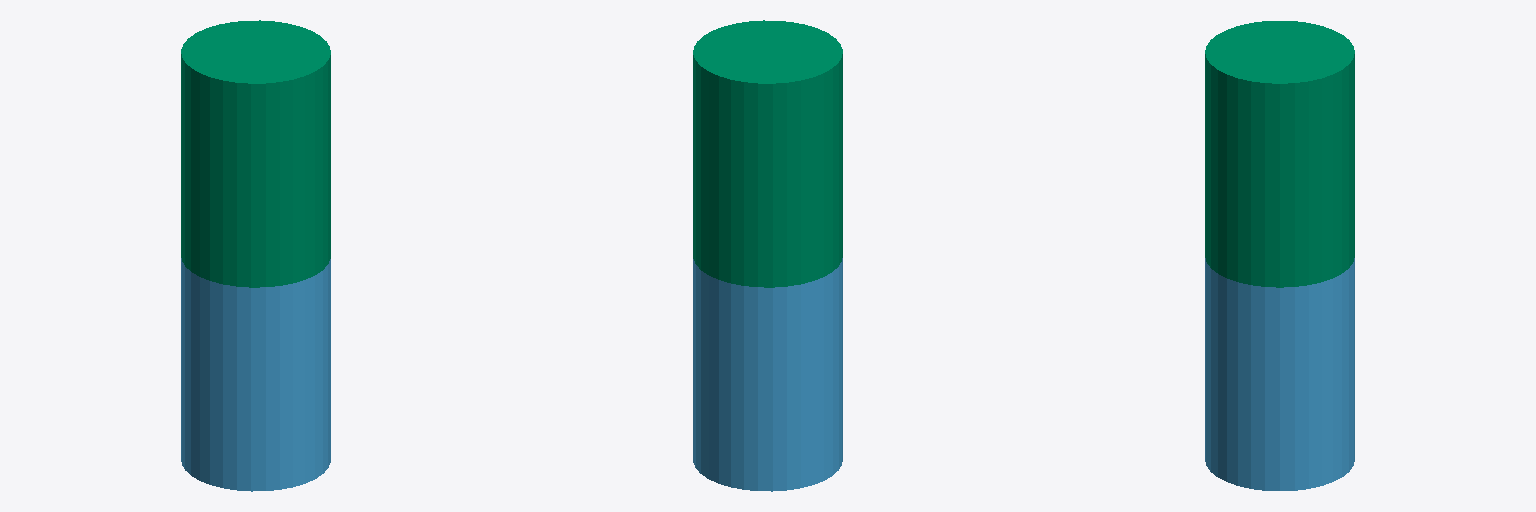
The robot description file, URDF, robot "my_simple_model":
<?xml version="1.0"?>
<robot name="my_simple_model">
  <link name="world"/>
  <link name="base_link">
    <inertial>
      <origin rpy="0 0 0" xyz="0 0 0.5"/>
      <mass value="0.1"/>
      <inertia ixx="0.1" ixy="0" ixz="0" iyy="0.1" iyz="0" izz="0.1"/>
    </inertial>
    <visual>
      <origin xyz="0 0 0.3" rpy="0 0 0"/>
      <geometry>
        <cylinder length="0.6" radius="0.2"/>
      </geometry>
    </visual>
  </link>
  <link name="l1">
    <inertial>
      <origin rpy="0 0 0" xyz="0 0 0.5"/>
      <mass value="0.1"/>
      <inertia ixx="0.1" ixy="0" ixz="0" iyy="0.1" iyz="0" izz="0.1"/>
    </inertial>
    <visual>
      <origin xyz="0 0 0.3" rpy="0 0 0"/>
      <geometry>
        <cylinder length="0.6" radius="0.2"/>
      </geometry>
    </visual>
  </link>

  <joint name="base_joint" type="fixed">
    <parent link="world"/>
    <child link="base_link"/>
  </joint>
  <joint name="j1" type="revolute">
    <axis xyz="0 1 0"/>
    <origin rpy="0 0 0" xyz="0 0 0.6"/>
    <parent link="base_link"/>
    <child link="l1"/>
    <dynamics damping="0.01" friction="0.0"/>
    <limit effort="100" lower="-1.57" upper="1.57" velocity="100.0"/>
  </joint>

</robot>

--- Facts derived from the render (not from the file) ---
Views: 3 orthographic renders of the robot side by side, from view 1: azimuth 30°, elevation 25°; view 2: azimuth 150°, elevation 25°; view 3: azimuth 270°, elevation 25°.
Model my_simple_model with 3 links and 2 joints (1 revolute, 1 fixed), rooted at world, posed all joints at 0.
Links seen in each view (by area): view 1: l1, base_link; view 2: l1, base_link; view 3: l1, base_link.
Link boxes in pixels (x1,y1,x2,y2): l1: (181,20,330,287); base_link: (181,258,330,491); l1: (693,20,842,287); base_link: (693,258,842,491); l1: (1205,21,1354,287); base_link: (1205,258,1354,490).
Size in the robot's own frame: 0.4 by 0.4 by 1.2 metres.
Geometry: primitives only (box / cylinder / sphere), no mesh files.